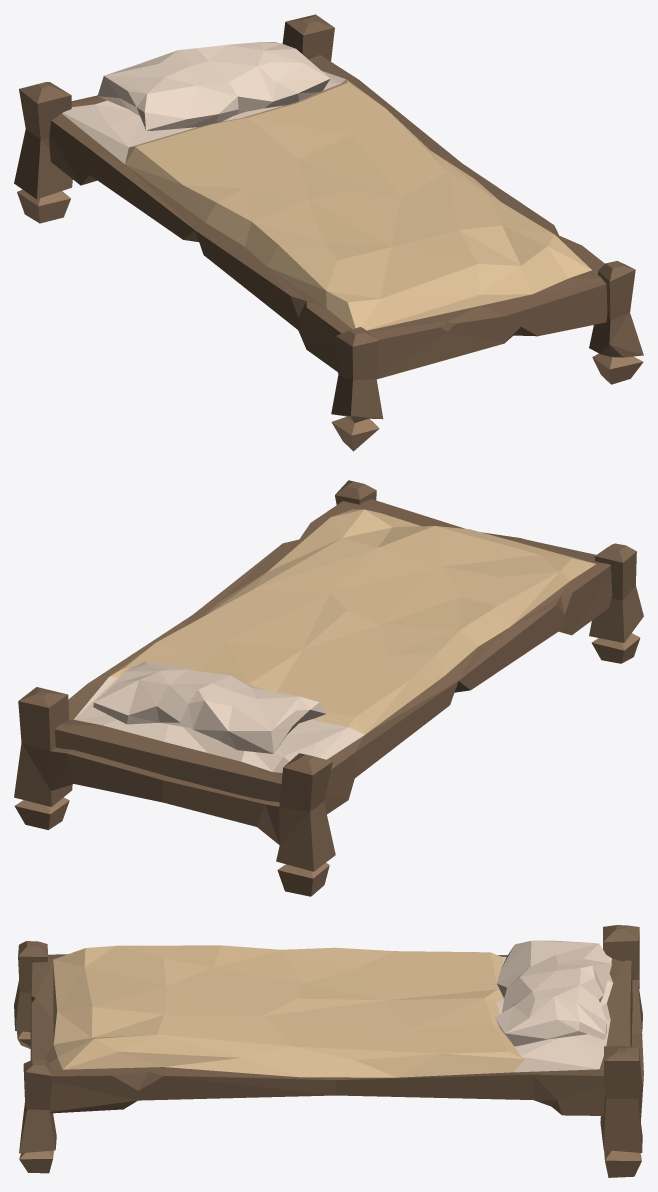
Rendered from SingleBed_White.fbx.
3 views of the same model, one above another, from view 1: azimuth 30°, elevation 25°; view 2: azimuth 150°, elevation 25°; view 3: azimuth 270°, elevation 25° (orthographic). The views are drawn at different scales.
Parts seen in each view (by area): view 1: SingleBed_White; view 2: SingleBed_White; view 3: SingleBed_White.
Part boxes in pixels (<box>): SingleBed_White: <box>14,14,643,451</box>; SingleBed_White: <box>14,480,643,896</box>; SingleBed_White: <box>14,925,643,1177</box>.
Bounding box in the file's own units: 2.81 × 1.36 × 5.39.
